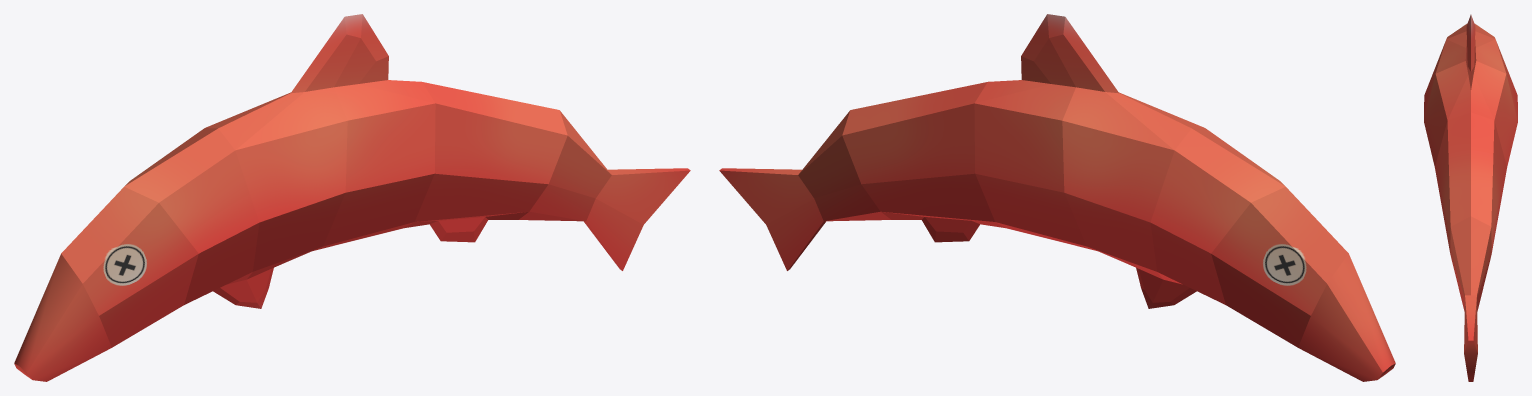
File: Fish.FBX
The picture shows the model from 3 angles, left to right: view 1: azimuth 30°, elevation 25°; view 2: azimuth 150°, elevation 25°; view 3: azimuth 270°, elevation 25°; orthographic projection. The views are drawn at different scales.
Visible parts, largest first — view 1: FISH(Scal20P)001; view 2: FISH(Scal20P)001; view 3: FISH(Scal20P)001.
Part boxes in pixels (x1,y1,x2,y2): FISH(Scal20P)001: [14, 14, 690, 381]; FISH(Scal20P)001: [719, 14, 1395, 381]; FISH(Scal20P)001: [1424, 14, 1517, 381].
Bounding box in the file's own units: 106 × 48.76 × 16.03.
1 material, 1 textured.
